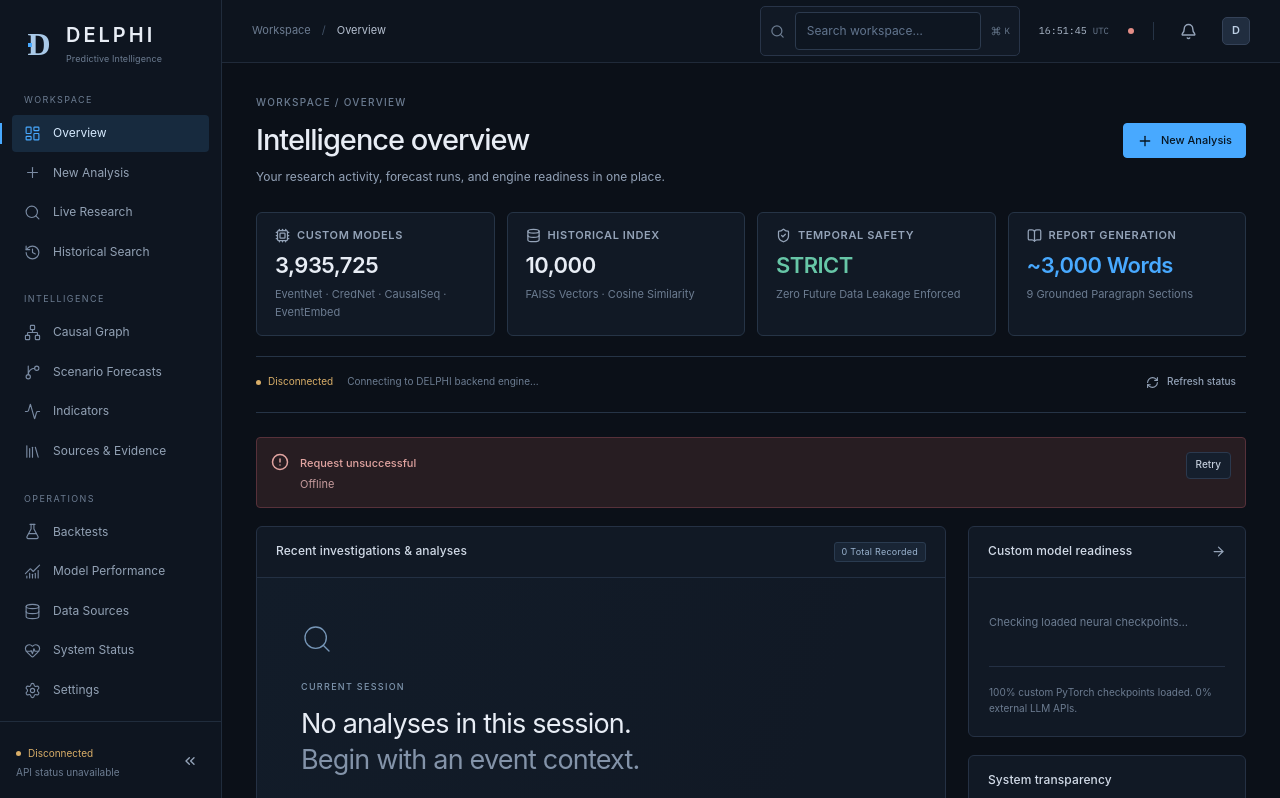
Scenario: frontend contract integration › can retry failed health requests and keeps unknown states honest
Check: the text "Offline" is shown, box [300,477,334,491]
Click the button "Retry" at [1208, 465], box [1186,452,1231,479]
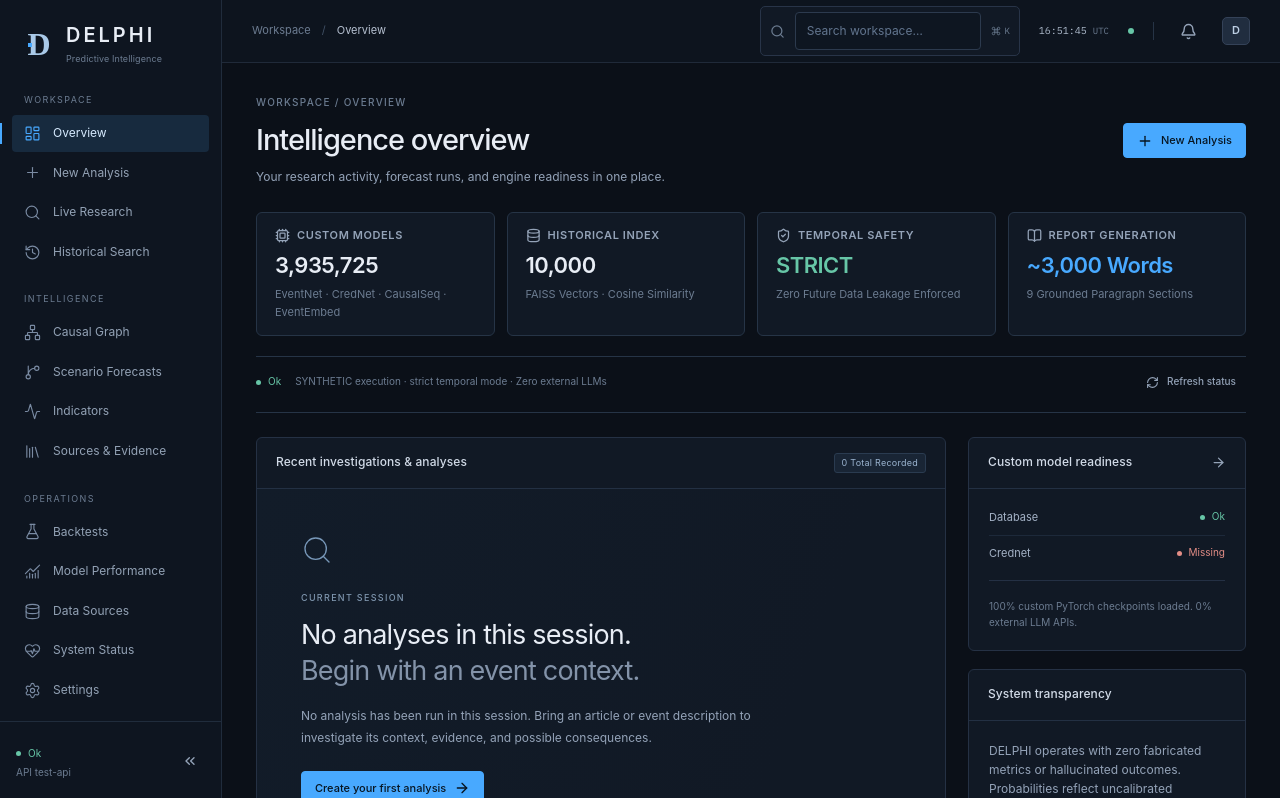
Check: the text "SYNTHETIC execution" is shown, box [295,375,607,387]
Check: the text "Offline" is gone
